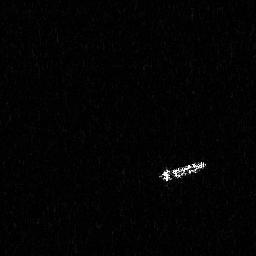ship: (159, 158, 208, 187)
